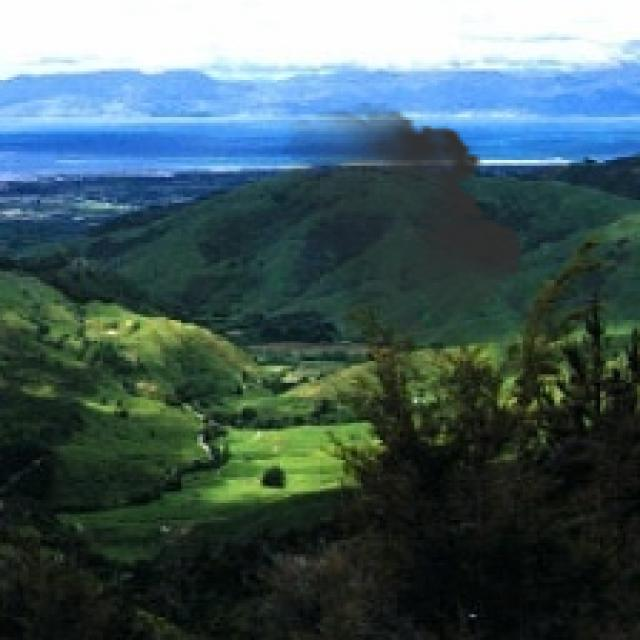Smoke: (268, 103, 534, 366)
